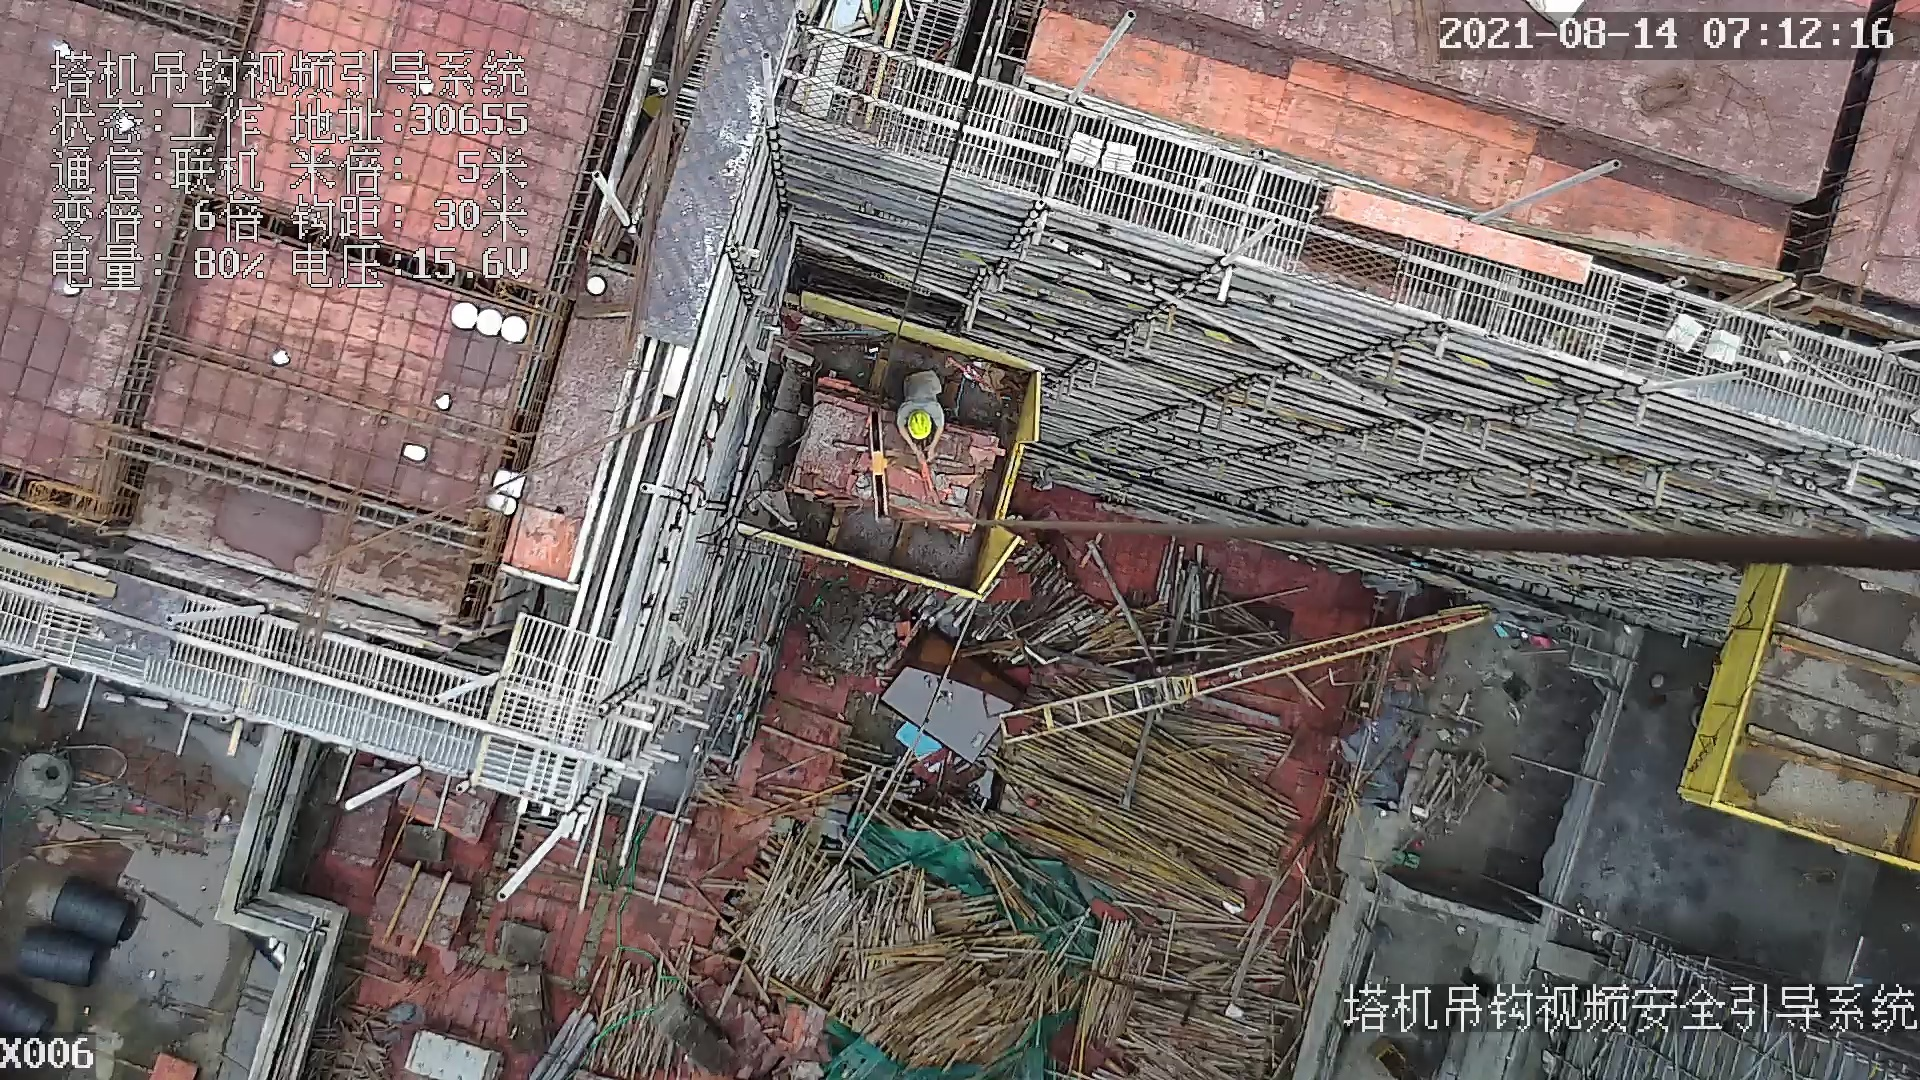helmet: (905, 405, 940, 447)
hook: (863, 405, 899, 524)
person: (903, 369, 949, 477)
